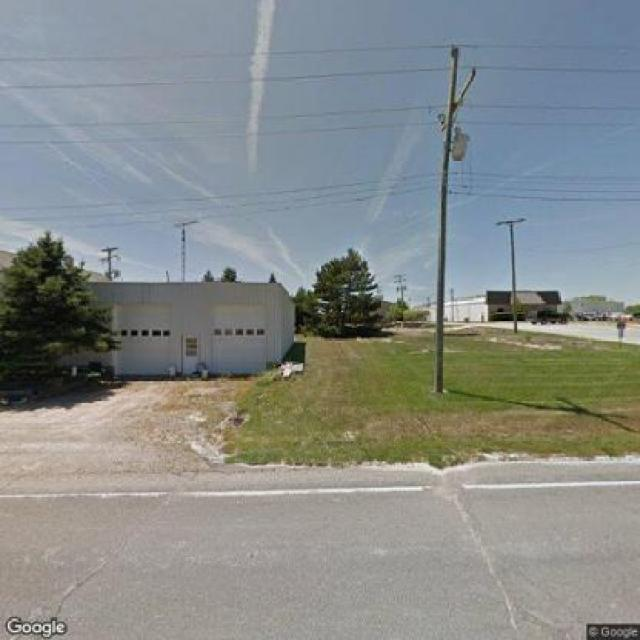pole: (417, 46, 483, 397)
